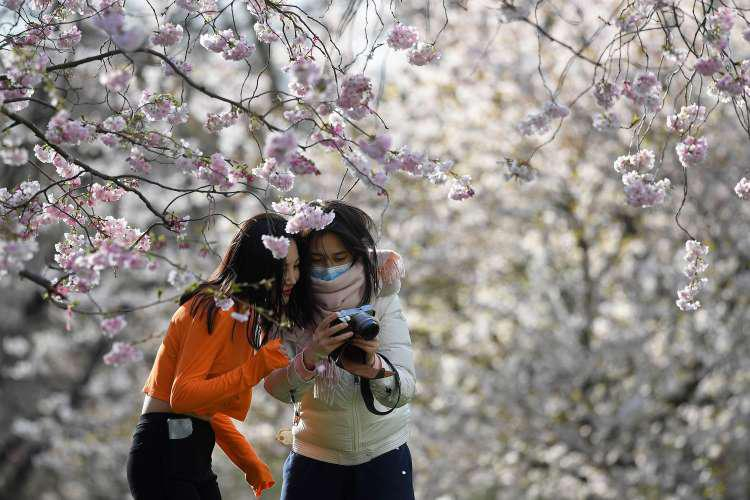Person: (126, 212, 302, 499), (300, 200, 416, 500)
